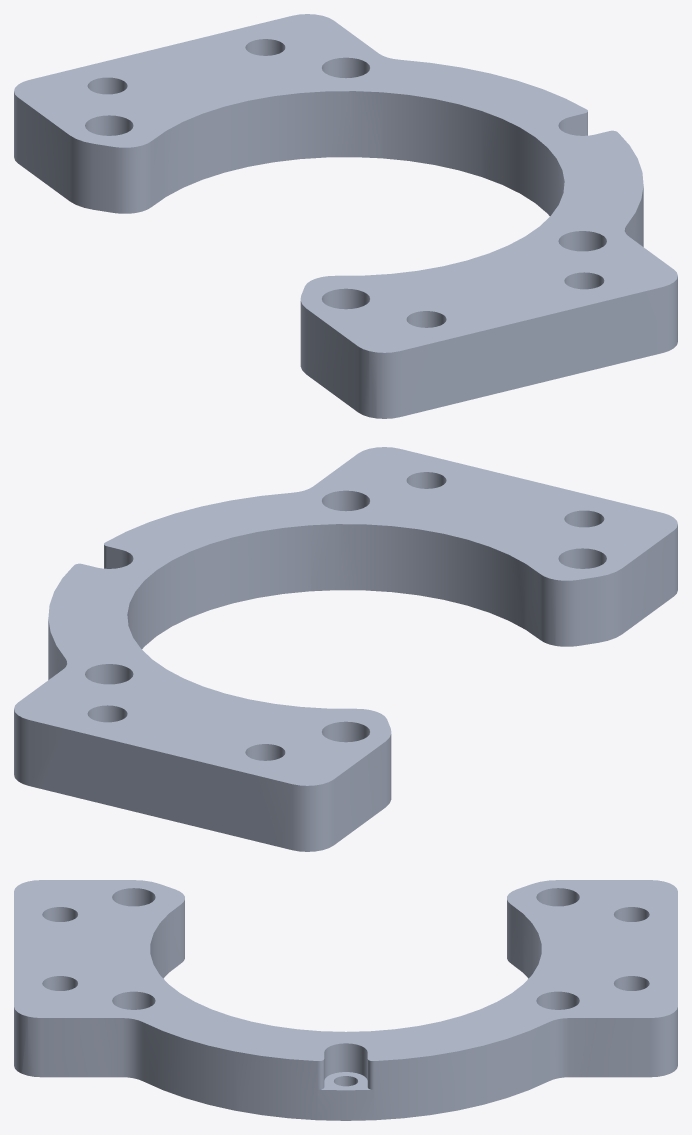
3 views of the same model, one above another, from view 1: azimuth 30°, elevation 25°; view 2: azimuth 150°, elevation 25°; view 3: azimuth 270°, elevation 25° (orthographic). The views are drawn at different scales.
Visible parts, largest first — view 1: base_link_02; view 2: base_link_02; view 3: base_link_02.
Part boxes in pixels (x1,y1,x2,y2): base_link_02: (14,14,677,418); base_link_02: (14,447,677,851); base_link_02: (14,880,677,1120).
Size of the model in its own units: 0.079 by 0.012 by 0.122.
